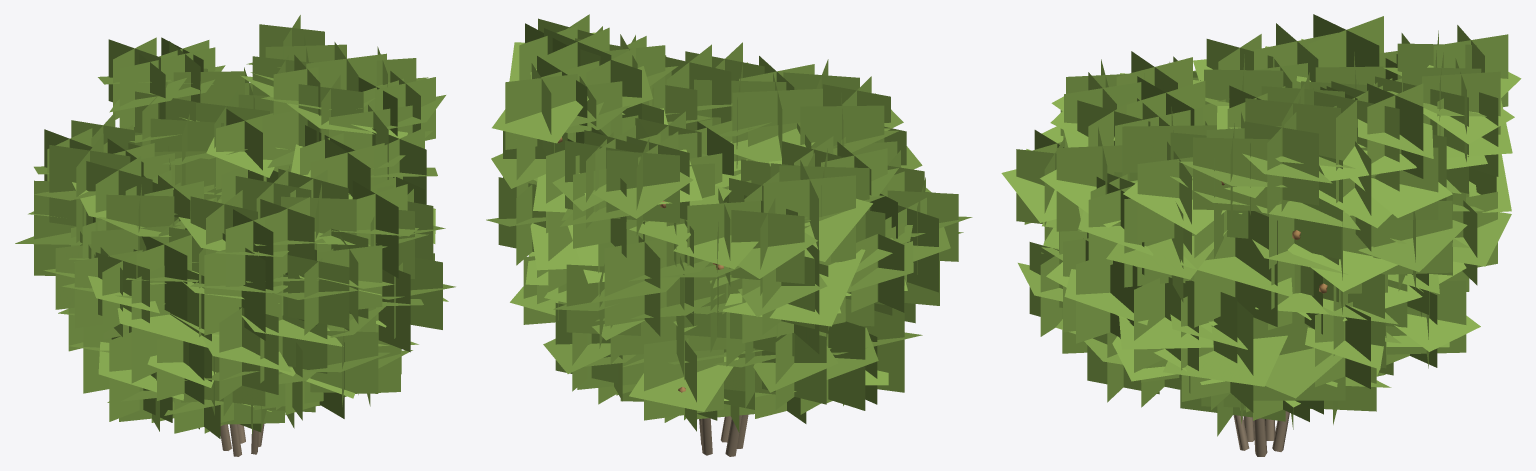
File: noisetier_1_f2_jeu.glb
The picture shows the model from 3 angles, left to right: view 1: azimuth 30°, elevation 25°; view 2: azimuth 150°, elevation 25°; view 3: azimuth 270°, elevation 25°; orthographic projection. The views are drawn at different scales.
Visible parts, largest first — view 1: Noisetier_T1_f2_Leger; view 2: Noisetier_T1_f2_Leger; view 3: Noisetier_T1_f2_Leger.
Part boxes in pixels (x1,y1,x2,y2): Noisetier_T1_f2_Leger: [15, 15, 455, 456]; Noisetier_T1_f2_Leger: [486, 14, 972, 456]; Noisetier_T1_f2_Leger: [1001, 14, 1521, 456].
Size of the model in its own units: 3.44 by 3.01 by 3.44.
